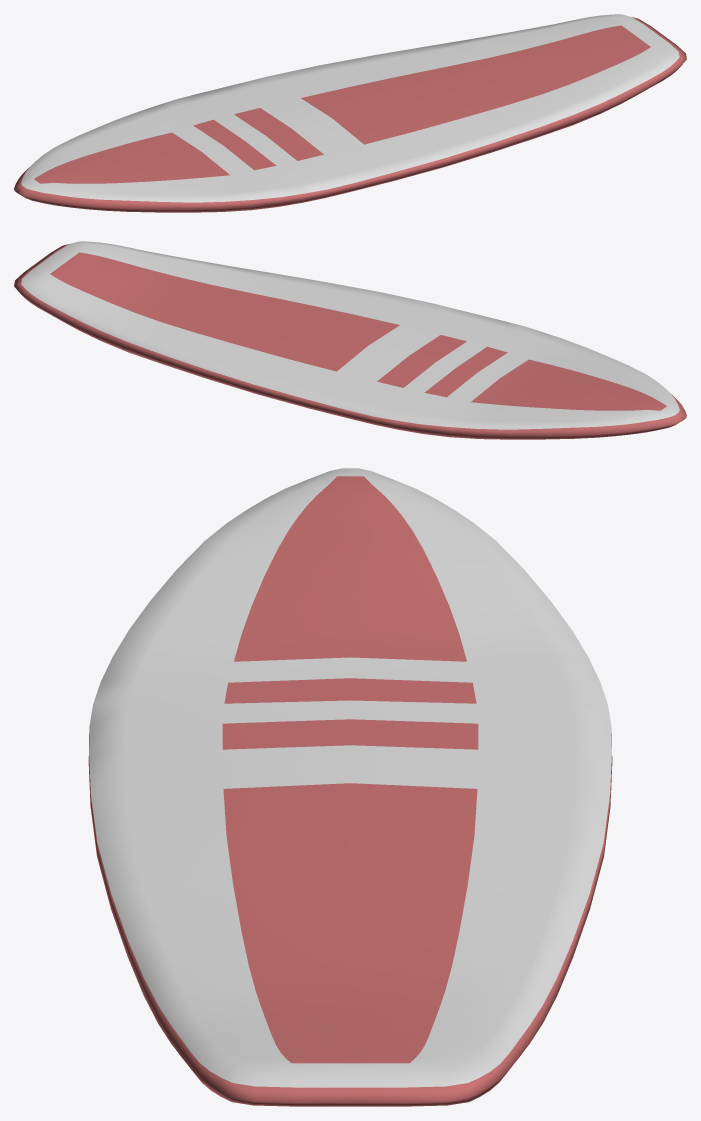
File: サーフィン.fbx
The picture shows the model from 3 angles, top to bottom: view 1: azimuth 30°, elevation 25°; view 2: azimuth 150°, elevation 25°; view 3: azimuth 270°, elevation 25°; orthographic projection. The views are drawn at different scales.
Visible parts, largest first — view 1: pCube1; view 2: pCube1; view 3: pCube1.
Boxes of the visible parts, x1,y1,x2,y2 form: pCube1: (14, 14, 686, 212); pCube1: (14, 241, 686, 439); pCube1: (88, 468, 612, 1106).
Bounding box in the file's own units: 3.91 × 0.1802 × 1.37.
